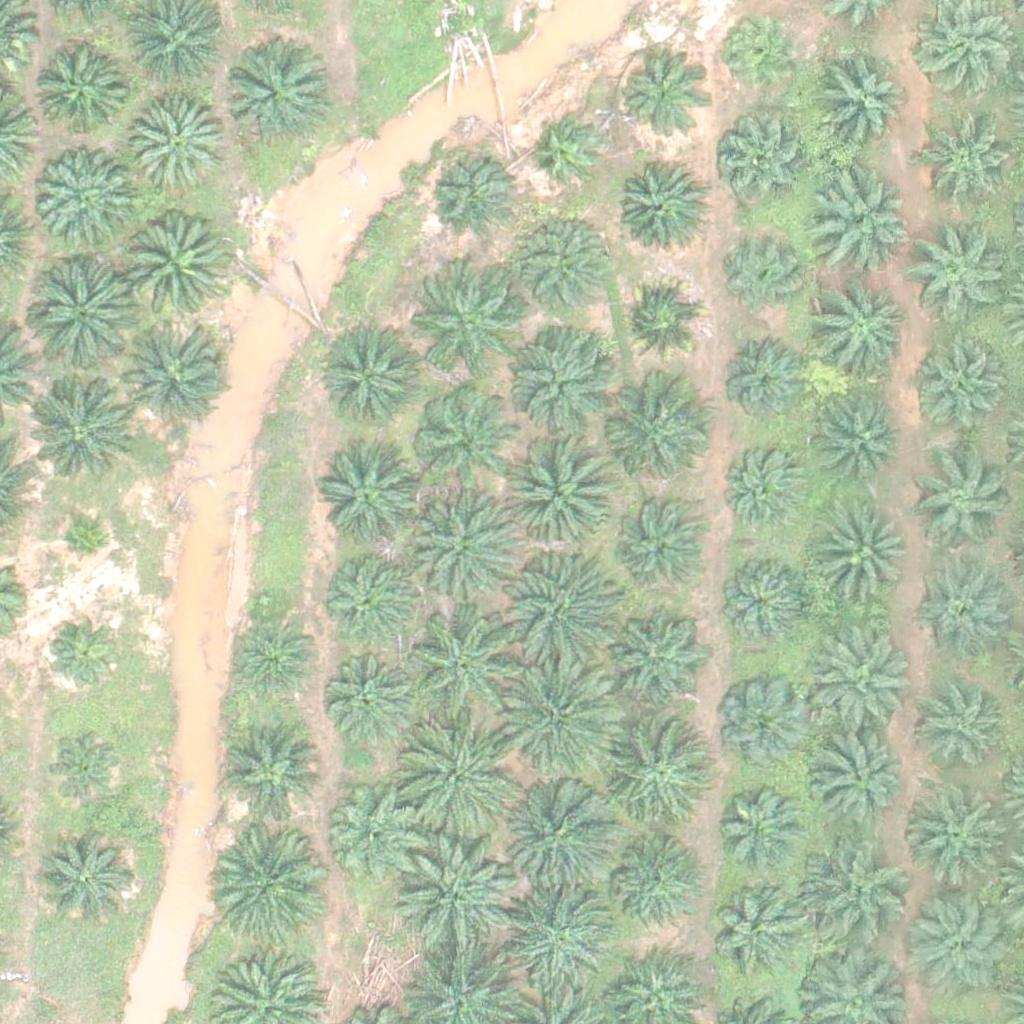Kelapa_Sawit: (213, 824, 326, 938), (897, 889, 1010, 1002), (397, 841, 510, 954), (506, 662, 619, 775), (506, 551, 619, 664), (505, 433, 618, 546), (506, 318, 619, 431), (403, 493, 516, 606), (405, 722, 518, 835), (22, 258, 135, 371), (19, 375, 132, 488), (898, 782, 1010, 896), (502, 879, 614, 993), (807, 623, 919, 737), (510, 776, 622, 890), (801, 832, 913, 945), (602, 377, 714, 490), (604, 727, 716, 840), (410, 607, 522, 720), (118, 210, 230, 323), (115, 318, 227, 431), (34, 830, 134, 931), (906, 229, 1006, 330), (908, 339, 1008, 440), (913, 683, 1013, 784), (813, 275, 913, 376), (713, 675, 813, 776), (605, 615, 705, 716), (407, 275, 507, 376), (413, 387, 513, 488), (319, 541, 419, 642), (319, 449, 419, 550), (325, 323, 425, 424), (221, 721, 321, 822), (222, 47, 322, 148), (129, 96, 229, 197), (27, 41, 127, 142), (34, 149, 134, 250), (911, 449, 1011, 549), (911, 573, 1011, 673), (812, 56, 912, 156), (815, 172, 915, 272), (816, 509, 916, 609), (809, 730, 909, 830), (714, 554, 814, 654), (514, 210, 614, 310), (326, 784, 426, 884), (322, 643, 422, 743), (43, 724, 131, 813), (711, 887, 799, 975), (608, 841, 696, 929), (928, 126, 1016, 214), (815, 392, 903, 480), (714, 784, 802, 872), (716, 13, 804, 101), (720, 231, 808, 319), (721, 343, 809, 431), (721, 448, 809, 536), (429, 151, 517, 239), (718, 114, 805, 202), (620, 55, 707, 143), (616, 160, 703, 248), (41, 606, 128, 694), (616, 278, 703, 366), (613, 499, 700, 587), (228, 609, 315, 697), (532, 117, 607, 193), (60, 521, 110, 571)
